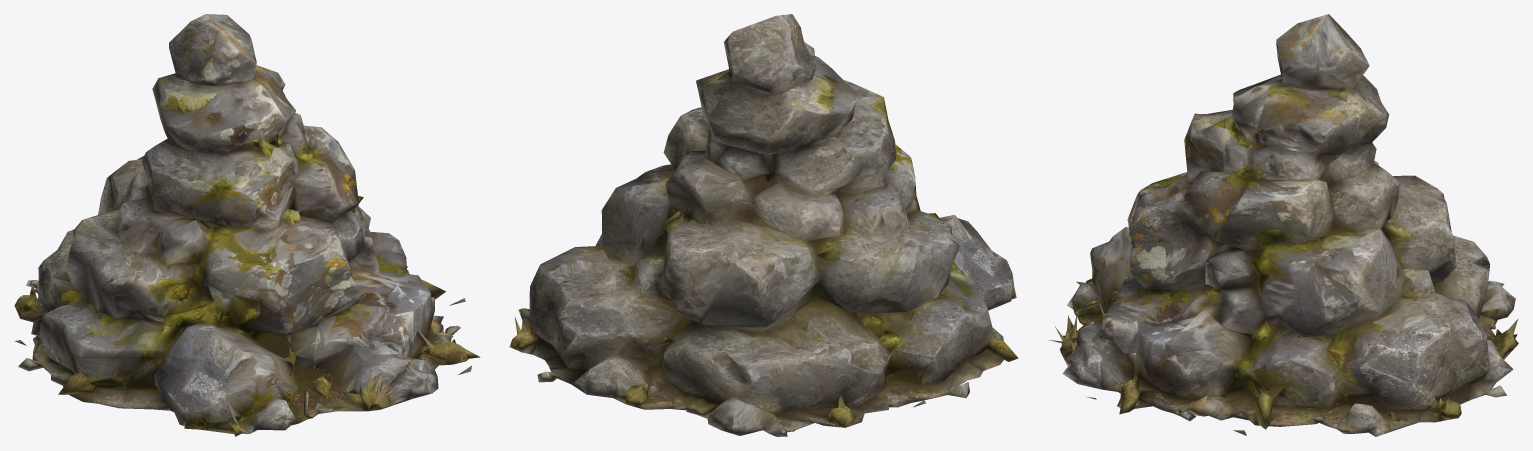
The model's file is land_cairn_far.obj.
The picture shows the model from 3 angles, left to right: view 1: azimuth 30°, elevation 25°; view 2: azimuth 150°, elevation 25°; view 3: azimuth 270°, elevation 25°; orthographic projection. The views are drawn at different scales.
Visible parts, largest first — view 1: land_cairn_far; view 2: land_cairn_far; view 3: land_cairn_far.
Part boxes in pixels (x1,y1,x2,y2): land_cairn_far: [14, 14, 480, 436]; land_cairn_far: [509, 14, 1018, 436]; land_cairn_far: [1048, 14, 1518, 436].
Size of the model in its own units: 6.8 by 4.98 by 6.75.
1 material, 1 textured.
